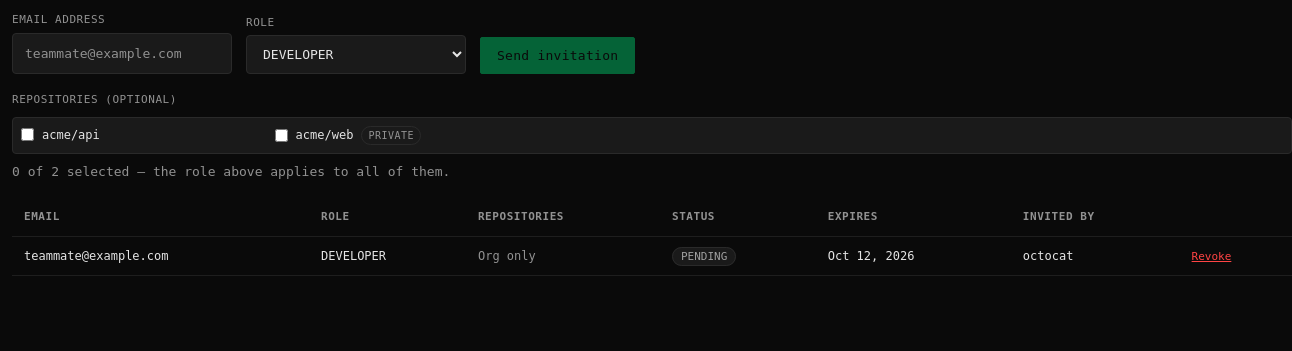
Test: OrgInvitationsComponent — invite form, list, revoke (plan Step 12) › keeps the row and shows the backend detail when revoke hits 409
Click the button "Revoke". click: (1212, 257)
box: top-left (1192, 248), bottom-right (1231, 265)
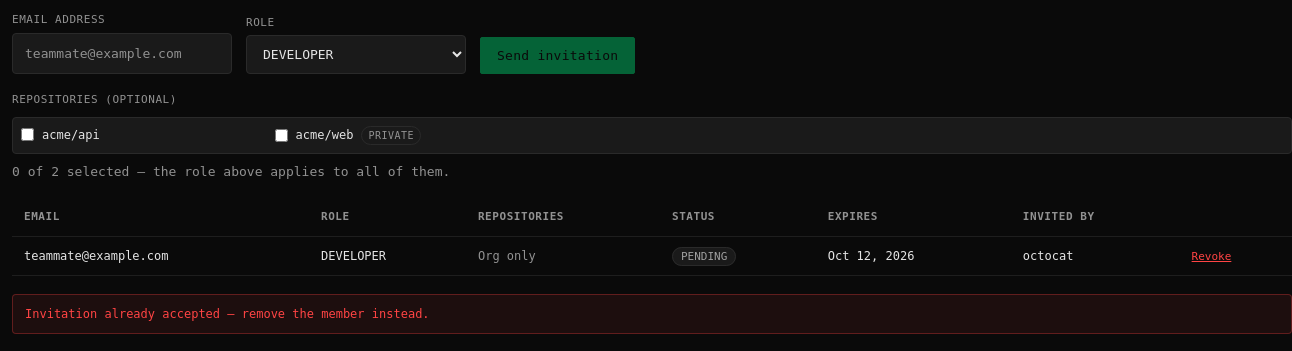
Now the text "already accepted" is shown, box top-left (25, 307), bottom-right (430, 321)
